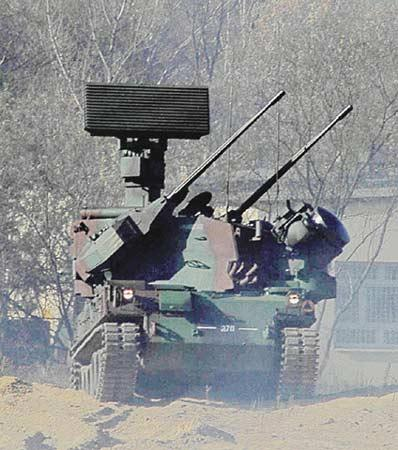MIL_SPG: (70, 83, 352, 403)
